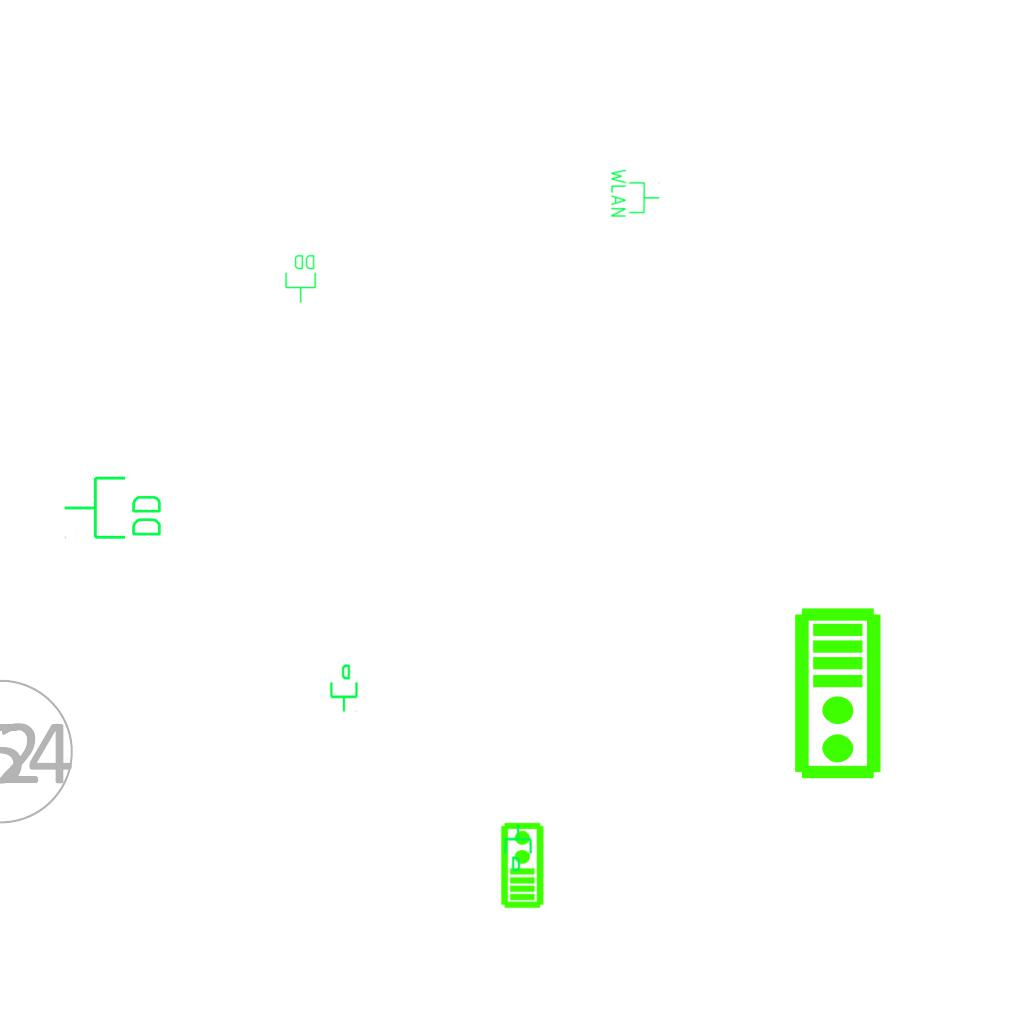Datenanschluss_einfach: (326, 663, 360, 713), (502, 823, 536, 873)
Datenanschluss_zweifach: (62, 474, 165, 543), (284, 253, 318, 304)
Gegensprechanlage_mit_Video: (792, 606, 887, 782), (498, 821, 545, 909)
WLAN: (609, 167, 661, 219)
